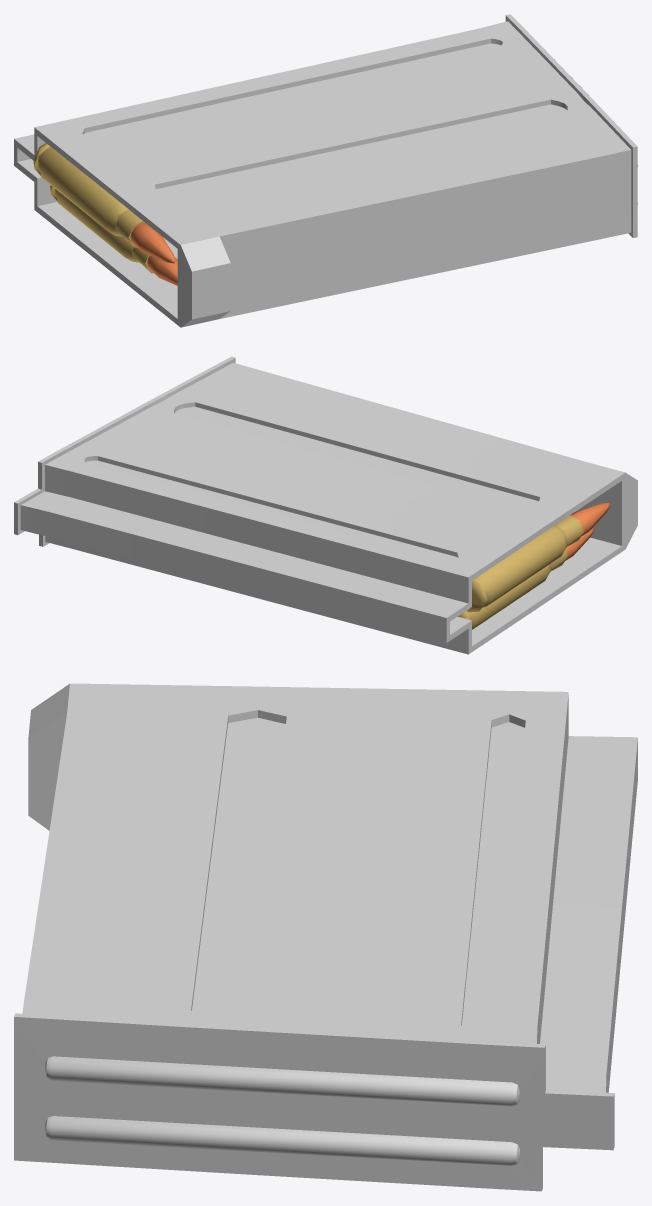
The model's file is SK_Guns_WaW_FG42_Magazine_Full.fbx.
The picture shows the model from 3 angles, top to bottom: view 1: azimuth 30°, elevation 25°; view 2: azimuth 150°, elevation 25°; view 3: azimuth 270°, elevation 25°; orthographic projection. The views are drawn at different scales.
Visible parts, largest first — view 1: FG42.Magazine; view 2: FG42.Magazine; view 3: FG42.Magazine.
Boxes of the visible parts, x1,y1,x2,y2 form: FG42.Magazine: (14, 14, 637, 327); FG42.Magazine: (14, 356, 637, 654); FG42.Magazine: (14, 683, 637, 1191).
Bounding box in the file's own units: 11.78 × 2.08 × 8.19.
